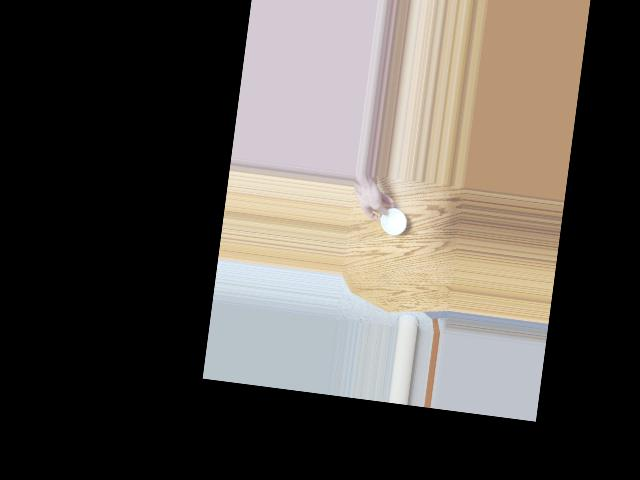cotage: (378, 205, 409, 236)
